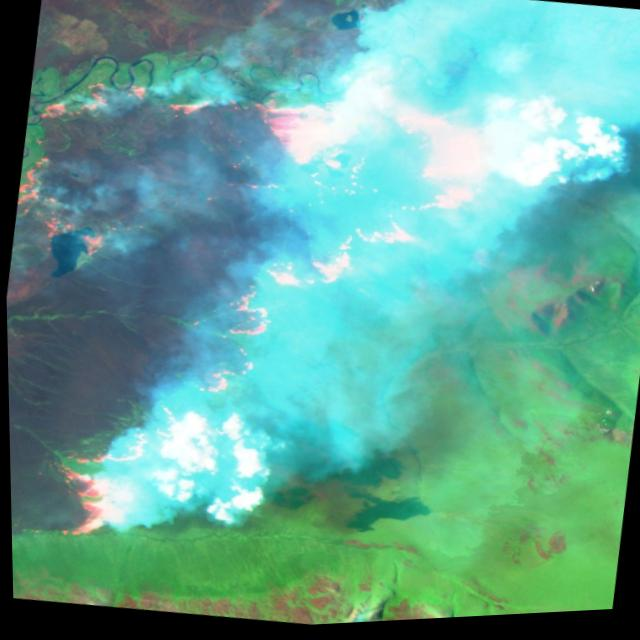fire: (1, 24, 535, 606)
